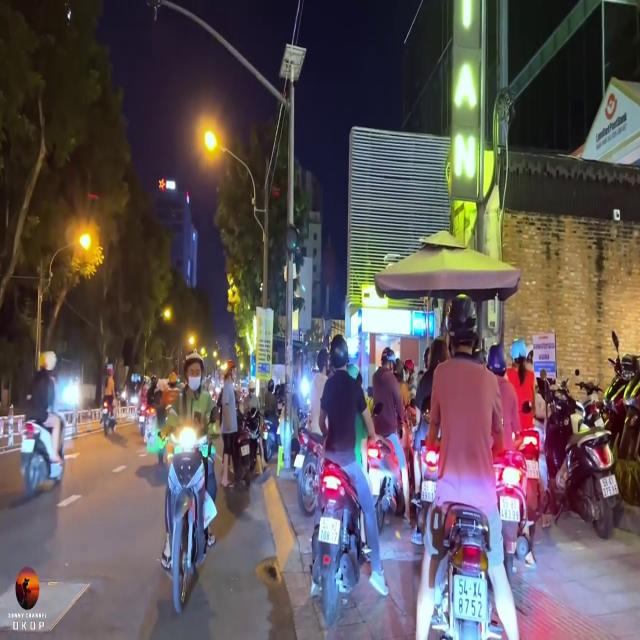bien_trang: (452, 572, 490, 626), (316, 513, 348, 553), (499, 493, 522, 526), (597, 473, 620, 499)
